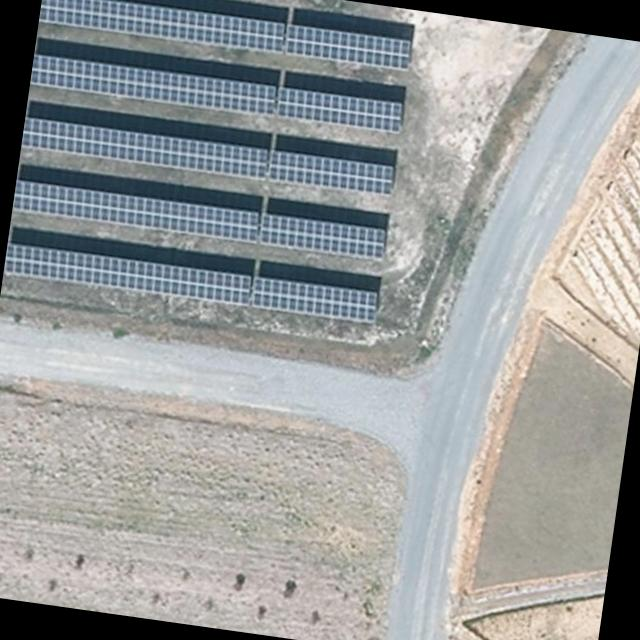solar: (13, 176, 264, 247), (4, 240, 255, 310), (22, 113, 272, 182), (31, 50, 280, 118), (40, 0, 288, 56), (250, 273, 382, 326), (266, 148, 398, 200), (258, 212, 390, 264), (275, 84, 406, 134), (284, 22, 414, 72)
